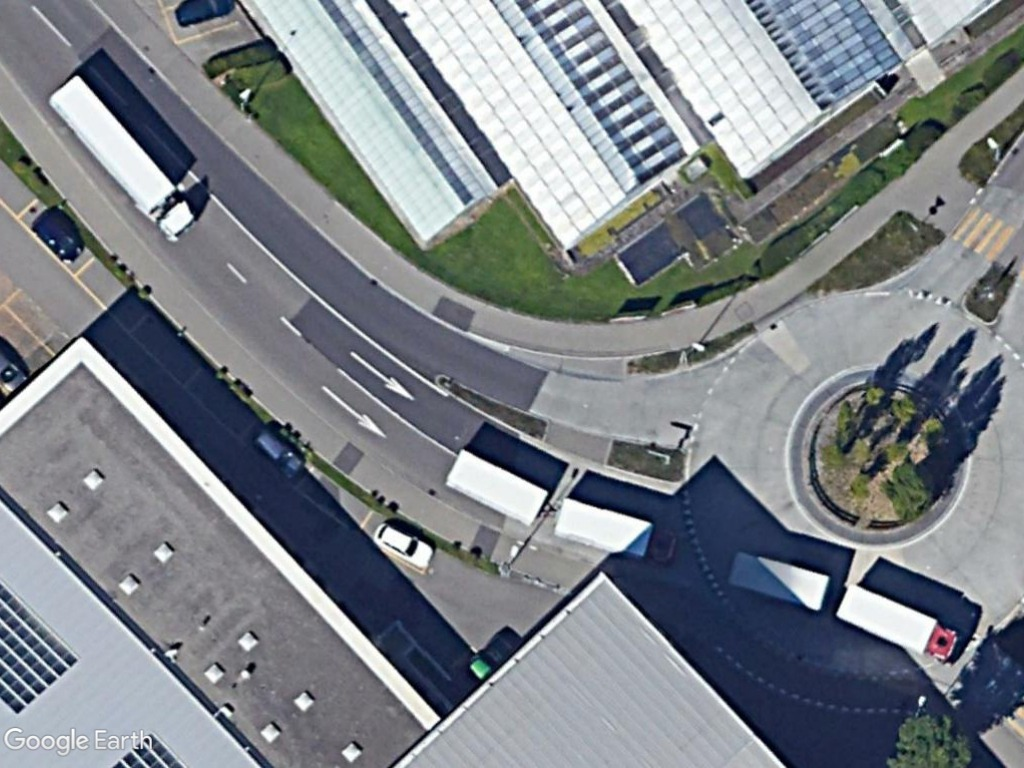car: (370, 516, 437, 571)
longvehicle: (40, 70, 205, 243)
truck: (829, 574, 964, 665), (554, 493, 683, 571)
